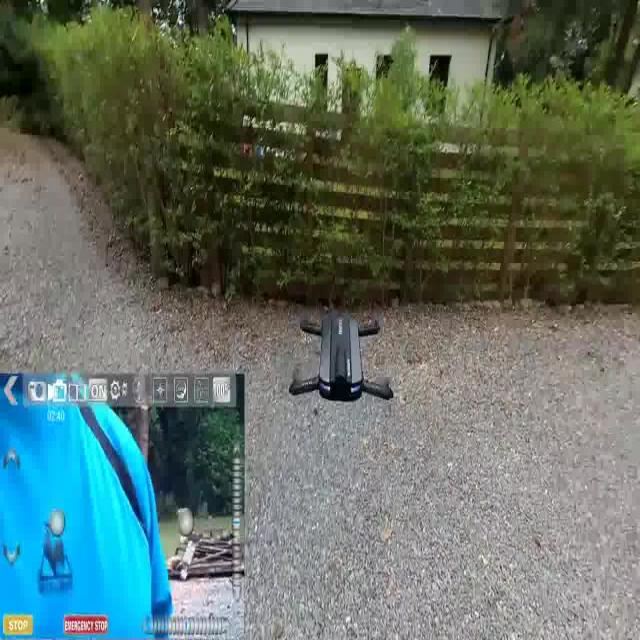drone: (288, 304, 396, 416)
